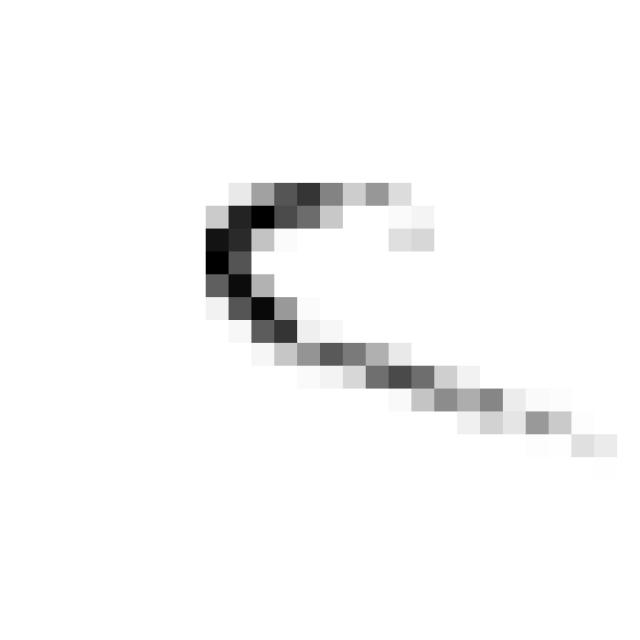2 -two-: (178, 158, 594, 456)
